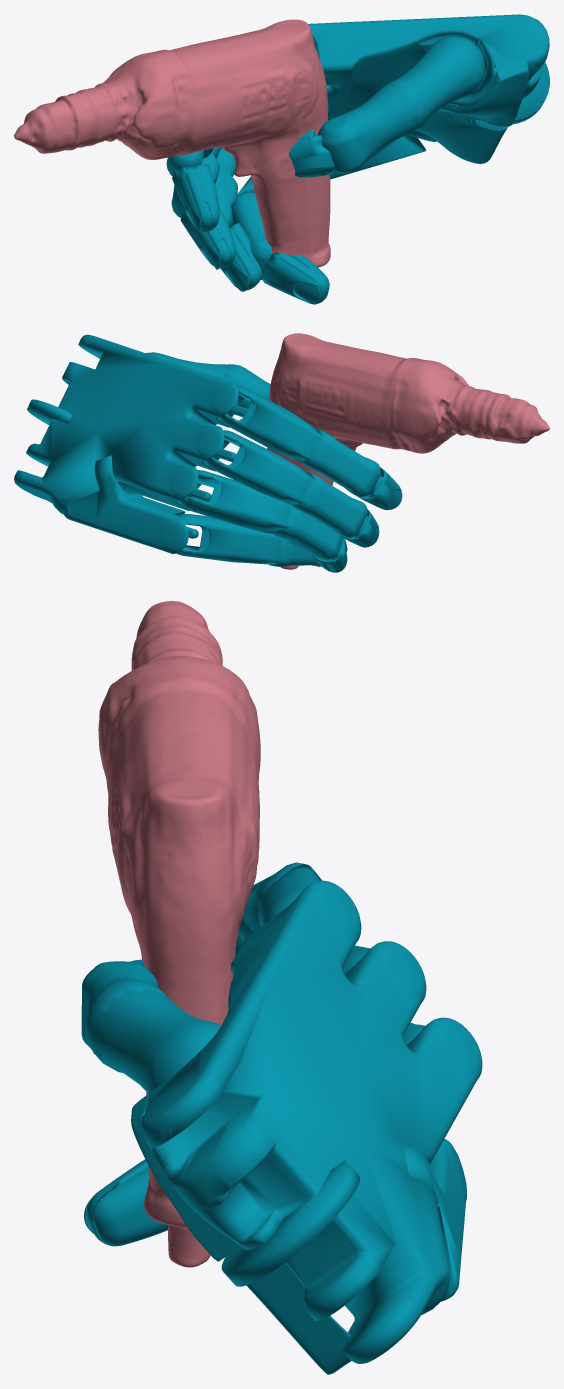
3 renders of one model, top to bottom at view 1: azimuth 30°, elevation 25°; view 2: azimuth 150°, elevation 25°; view 3: azimuth 270°, elevation 25°, orthographic. The views are drawn at different scales.
Parts seen in each view (by area): view 1: world; view 2: world; view 3: world.
Boxes of the visible parts, box(x1,y1,x2,y2) form: world: box(14, 14, 549, 304); world: box(14, 333, 549, 572); world: box(81, 601, 482, 1374).
Bounding box in the file's own units: 0.2661 × 0.1221 × 0.0944.
